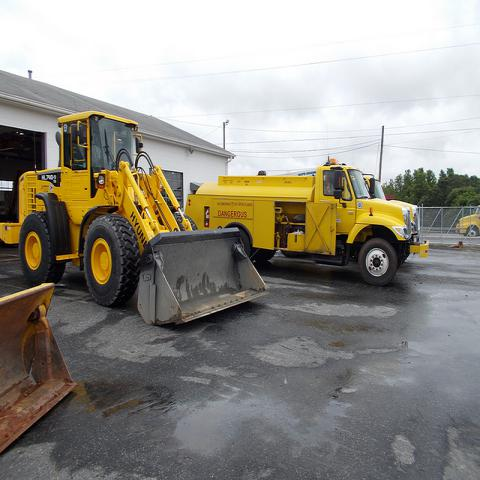truck: (186, 160, 420, 286), (349, 166, 430, 257), (456, 204, 479, 239)
